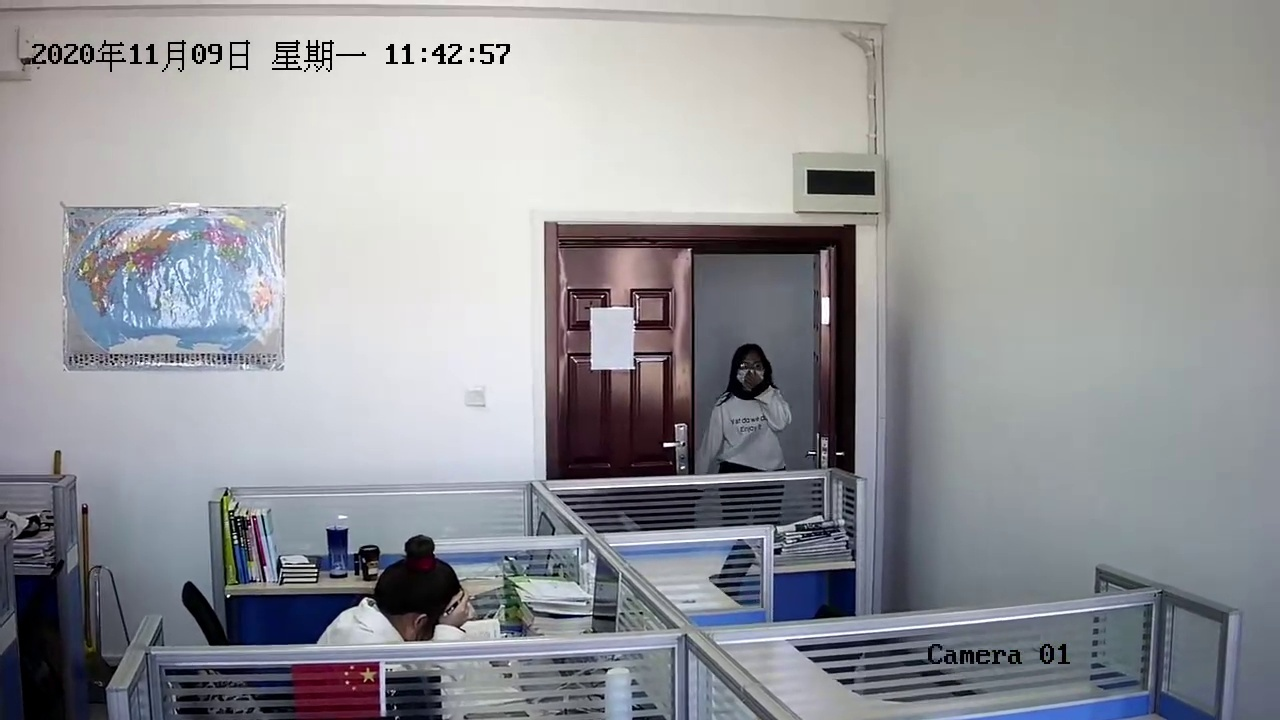mask: (729, 347, 772, 398)
